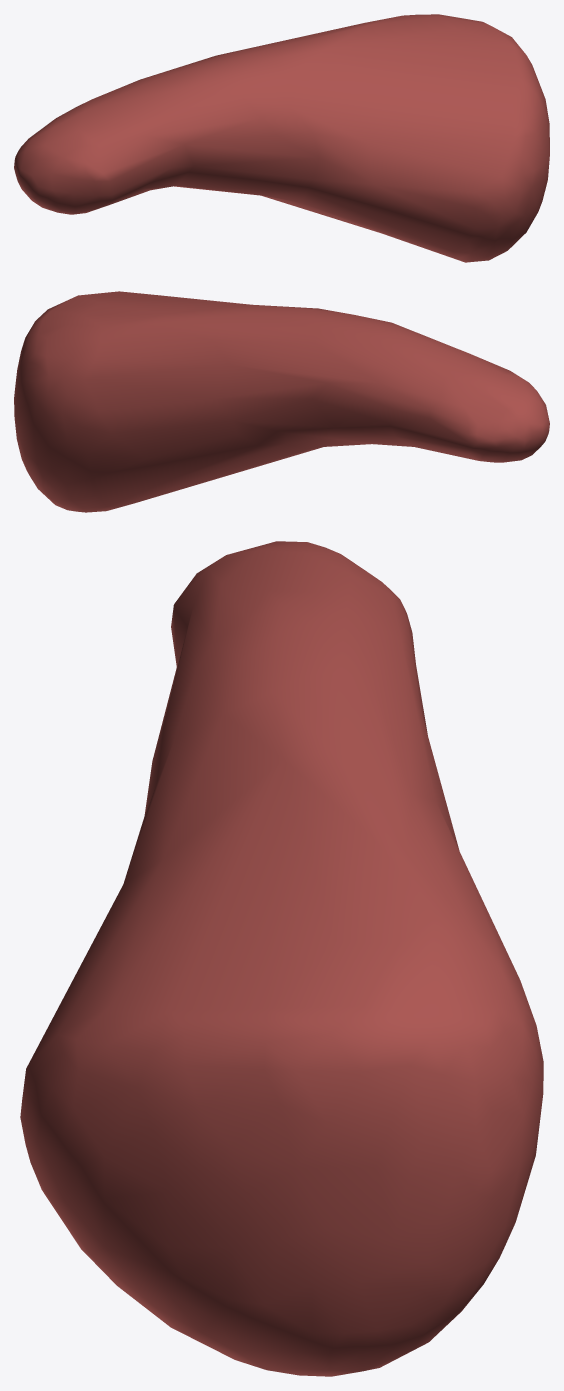
Rendered from FMA73462.glb.
3 renders of one model, top to bottom at view 1: azimuth 30°, elevation 25°; view 2: azimuth 150°, elevation 25°; view 3: azimuth 270°, elevation 25°, orthographic. The views are drawn at different scales.
Parts seen in each view (by area): view 1: FMA73462; view 2: FMA73462; view 3: FMA73462.
Part boxes in pixels (box(x1,y1,x2,y2)): FMA73462: box(14, 14, 549, 262); FMA73462: box(14, 291, 549, 512); FMA73462: box(20, 541, 543, 1376).
Size of the model in its own units: 0.0143 by 0.00655 by 0.00647.
